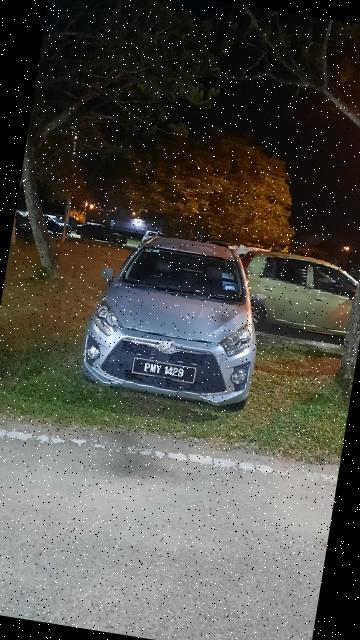License_Plate: (125, 353, 199, 389)
car: (77, 220, 271, 414)
